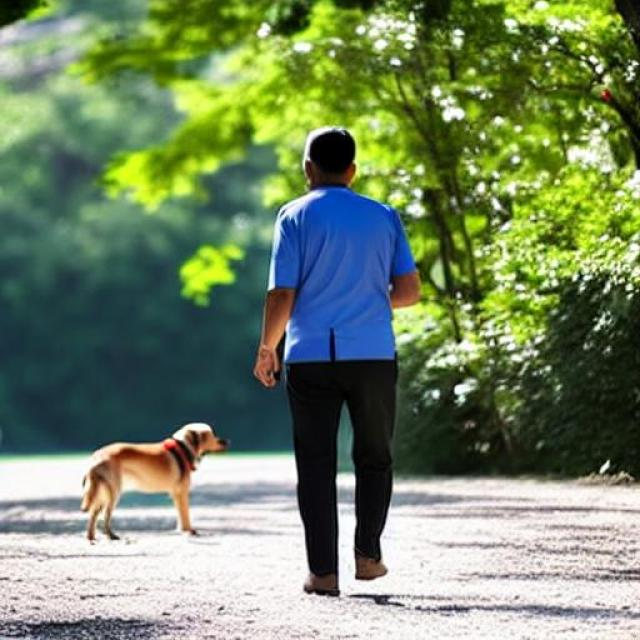Unleashed_Dog: (80, 323, 396, 546)
